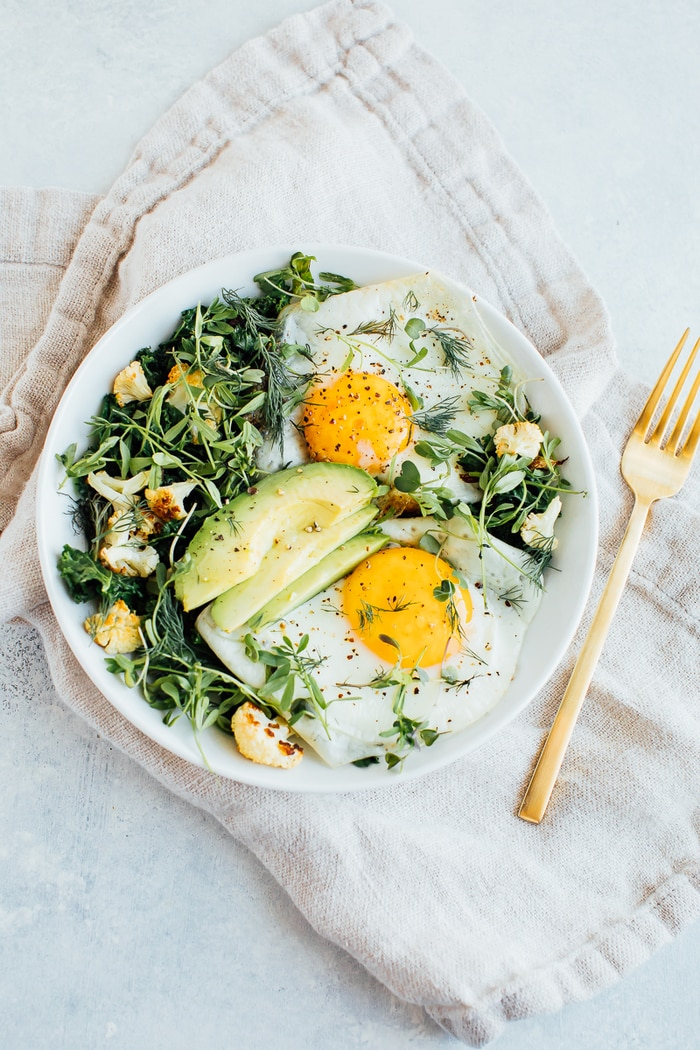fried egg: (276, 584, 522, 705), (301, 309, 444, 458)
